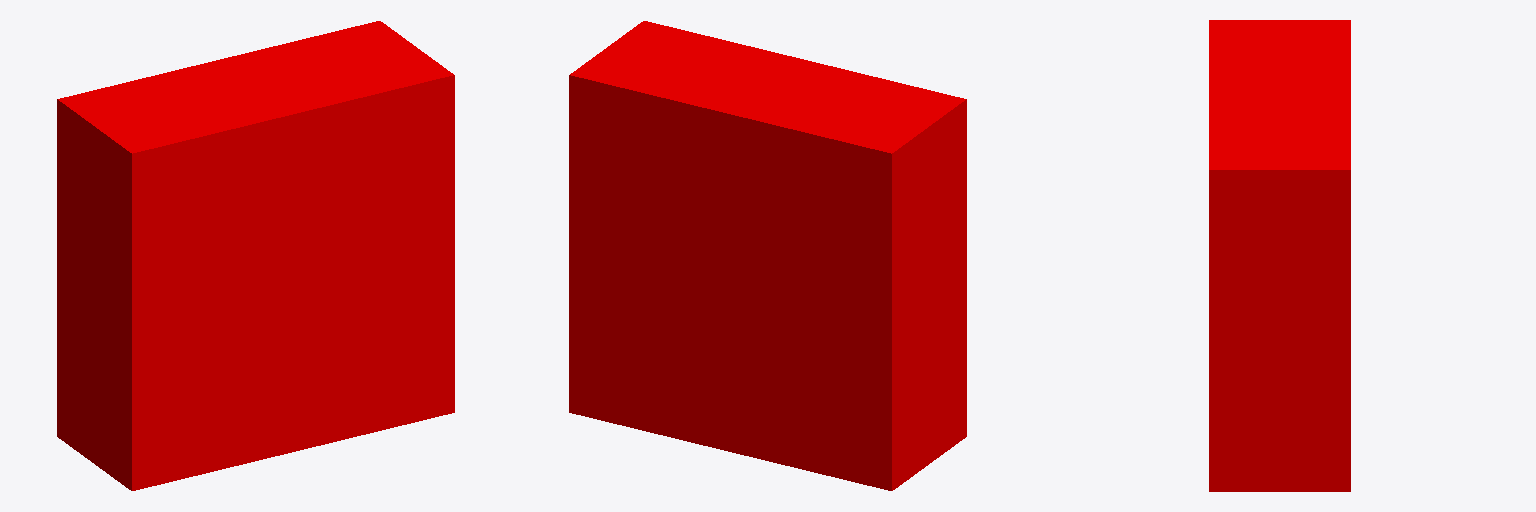
The robot description file, URDF, robot "plate1":
<?xml version="1.0" ?>
<robot name="plate1">
  <link concave="no" name="plateLink1">
  <contact>
      <lateral_friction value="2"/>
  </contact>
    <inertial>
      <origin rpy="0 0 0" xyz="0.25 -0.18 0"/>
       <mass value=".0"/>
       <inertia ixx="0" ixy="0" ixz="0" iyy="0" iyz="0" izz="0"/>
    </inertial>
    <visual>
      <origin rpy="0 0 0" xyz="0.25 -0.18 0"/>
      <geometry>
      	<box size="0.5 0.2 0.5"/>
      </geometry>
       <material name="red">
        <color rgba="1 0 0 0.7"/>
      </material>
    </visual>
    <collision concave="no">
      <origin rpy="0 0 0" xyz="0.25 -0.18 0"/>
      <geometry>
      	<box size="0.5 0.2 0.5"/>
      </geometry>
    </collision>
  </link>
</robot>

--- What the picture shows (computed from the rendered views, not written in the file) ---
The picture shows the robot from 3 angles, left to right: view 1: azimuth 30°, elevation 25°; view 2: azimuth 150°, elevation 25°; view 3: azimuth 270°, elevation 25°; orthographic projection.
Robot: plate1 — 1 links, 0 joints (none); root link plateLink1; default pose: every joint at zero.
Links seen in each view (by area): view 1: plateLink1; view 2: plateLink1; view 3: plateLink1.
Boxes of the visible links, box(x1,y1,x2,y2) form: plateLink1: box(57, 21, 454, 490); plateLink1: box(569, 21, 966, 490); plateLink1: box(1209, 20, 1350, 491).
Size in the robot's own frame: 0.5 by 0.2 by 0.5 metres.
Geometry: primitives only (box / cylinder / sphere), no mesh files.